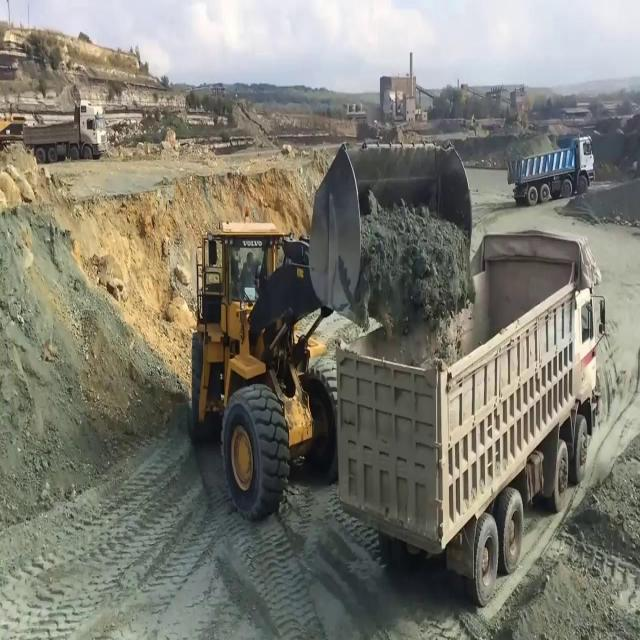Dump Truck: (329, 226, 609, 607), (508, 131, 596, 206), (21, 98, 109, 162)
Loader: (187, 132, 473, 522)
